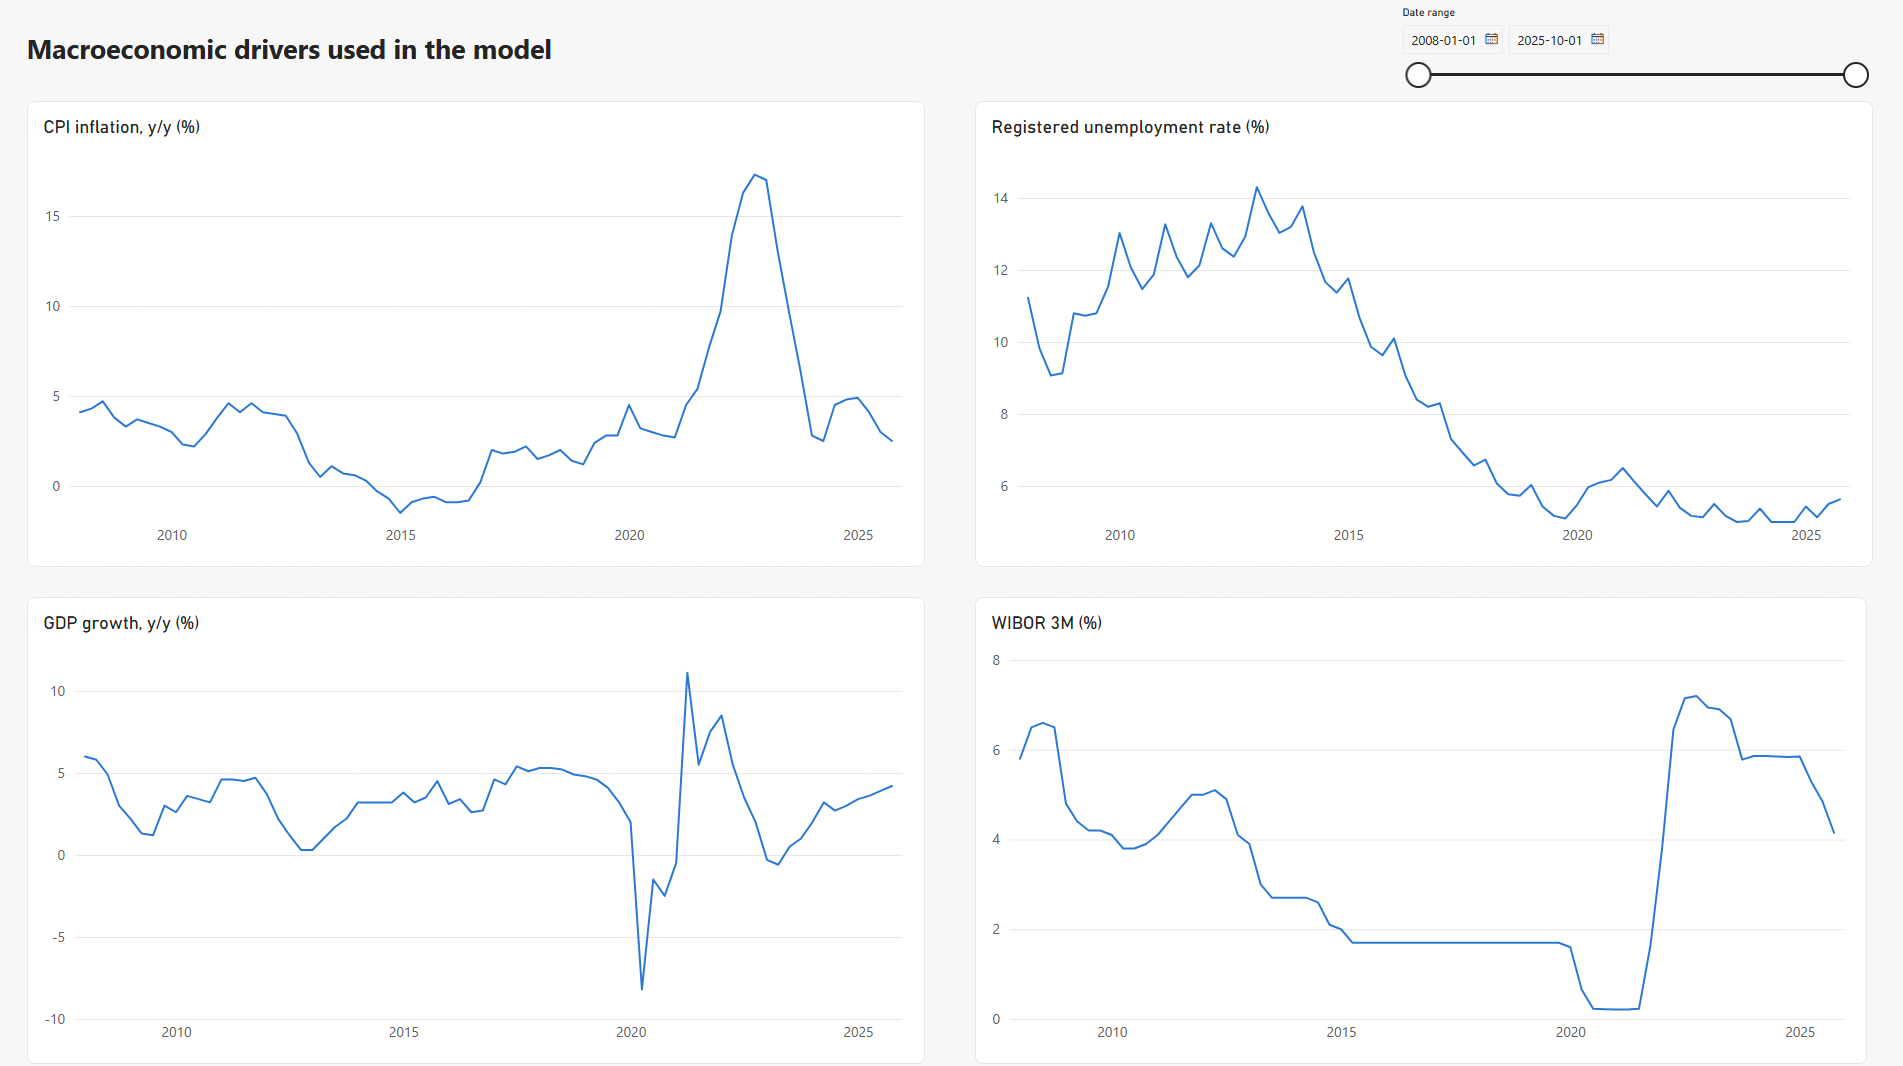

Layout of this report page (visuals, bound fields, positions):
{"tool":"powerbi","page":{"name":"Macro drivers","canvas":[1920,1080],"ordinal":1},"visuals":[{"type":"lineChart","title":"CPI inflation, y/y (%)","fields":{"Category":["dashboard_macro.date"],"Y":["Sum(dashboard_macro.inflation_pct)"]},"box":[34.2,108.6,897.7,466.4],"z":0},{"type":"lineChart","title":"Registered unemployment rate (%)","fields":{"Category":["dashboard_macro.date"],"Y":["Sum(dashboard_macro.unemployment_pct)"]},"box":[982.1,108.6,897.7,466.4],"z":1000},{"type":"lineChart","title":"GDP growth, y/y (%)","fields":{"Category":["dashboard_macro.date"],"Y":["Sum(dashboard_macro.gdp_growth_pct)"]},"box":[34.2,605.2,897.7,466.4],"z":2000},{"type":"lineChart","title":"WIBOR 3M (%)","fields":{"Category":["dashboard_macro.date"],"Y":["Sum(dashboard_macro.wibor_3m_pct)"]},"box":[982.1,605.2,891.6,466.4],"z":3000},{"type":"slicer","fields":{"Values":["dashboard_macro.date"]},"box":[1402,14,477.5,94.5],"z":4000},{"type":"textbox","box":[34.2,38.2,558.9,58.3],"z":5000}]}

Visuals, with their boxes in screenshot pixels (x1, y1, x2, y2), scaled from the page's 1920x1080 canvas onto the 1903x1066 screenshot:
"CPI inflation, y/y (%)" lineChart: [34, 107, 924, 568]
"Registered unemployment rate (%)" lineChart: [973, 107, 1863, 568]
"GDP growth, y/y (%)" lineChart: [34, 597, 924, 1058]
"WIBOR 3M (%)" lineChart: [973, 597, 1857, 1058]
slicer - dashboard_macro.date: [1390, 14, 1863, 107]
textbox: [34, 38, 588, 95]
